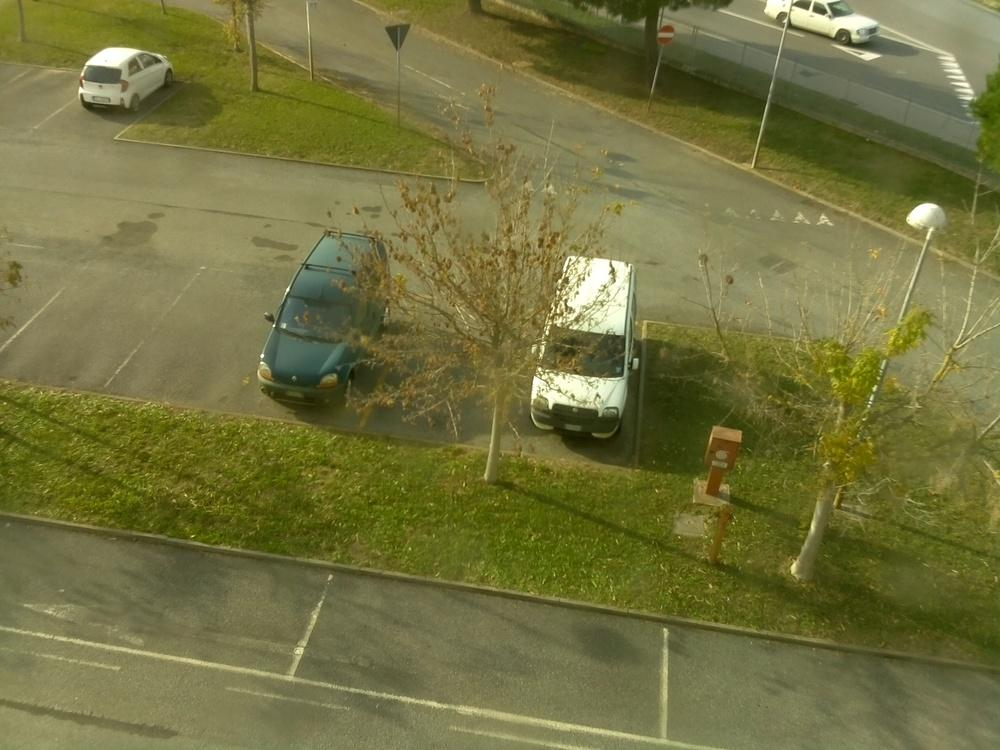empty: (250, 244, 403, 414), (73, 49, 175, 116)
occupied: (17, 538, 258, 670), (346, 580, 583, 713), (712, 637, 948, 750), (177, 274, 259, 410), (53, 274, 137, 390), (16, 63, 73, 119)
